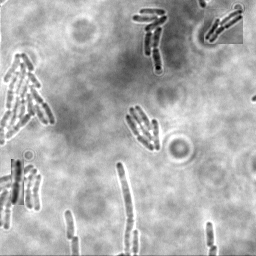Dividing: (114, 161, 133, 255), (11, 159, 24, 205), (204, 221, 215, 248)
Microcolony: (1, 51, 56, 147), (1, 162, 44, 231), (130, 8, 167, 72), (124, 106, 160, 153), (204, 9, 243, 44), (63, 208, 74, 240)
